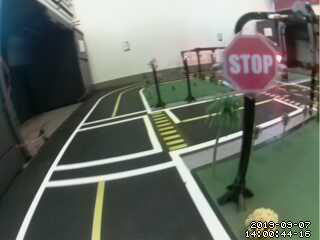Stop_Sign: (220, 34, 285, 97)
